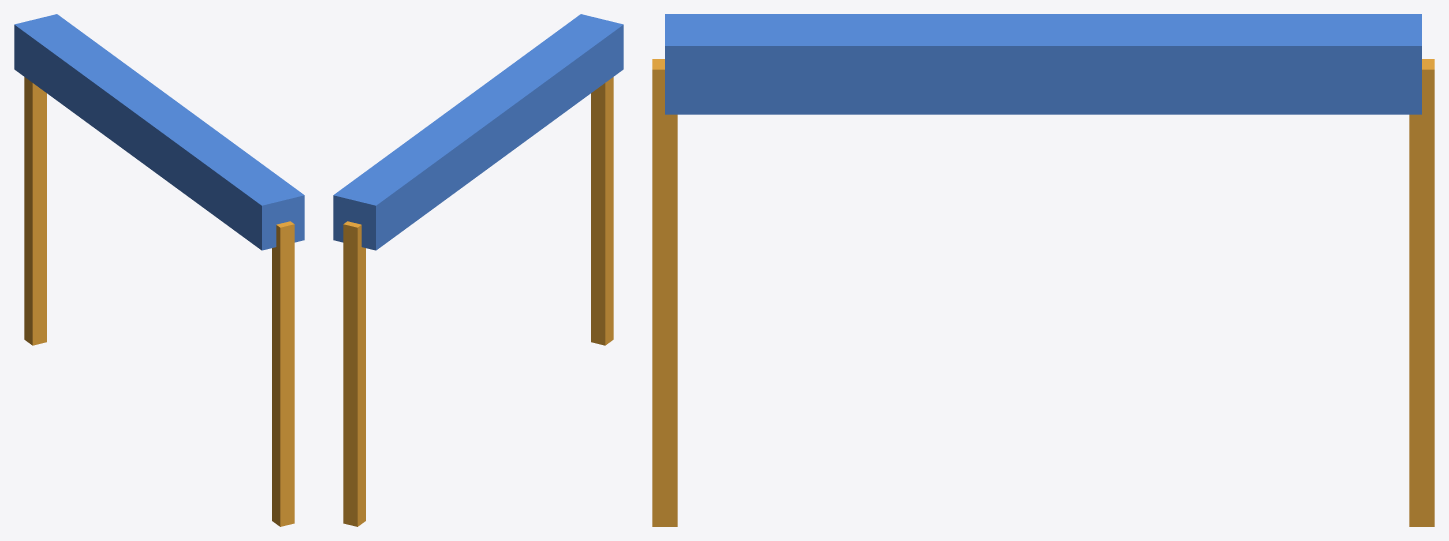
The picture shows the model from 3 angles, left to right: view 1: azimuth 30°, elevation 25°; view 2: azimuth 150°, elevation 25°; view 3: azimuth 270°, elevation 25°; orthographic projection. The views are drawn at different scales.
Bounding box in the file's own units: 0.06 × 0.43 × 0.62.
